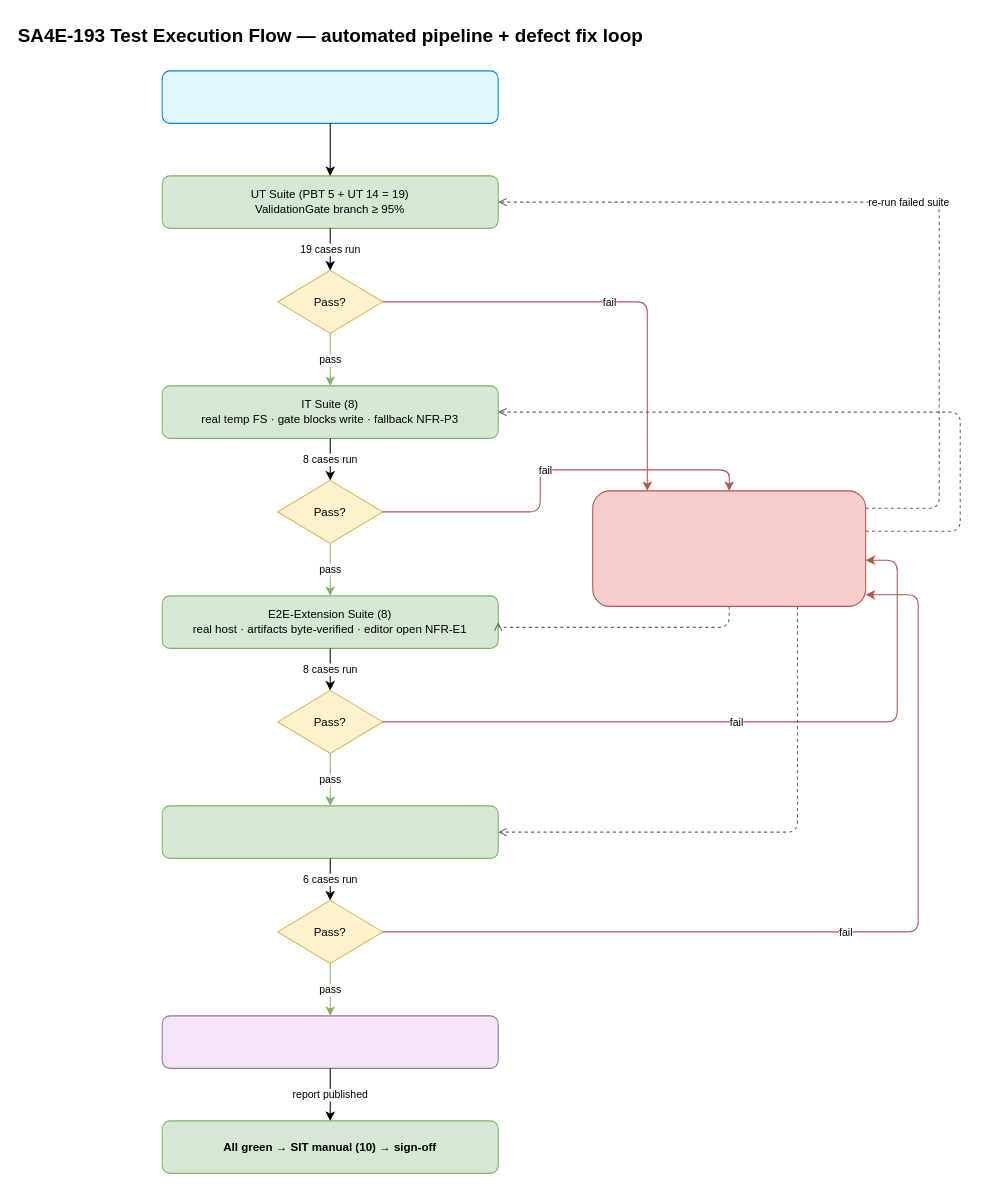
This 987x1192 diagram has some shape labels left out. The box of each missing label's shape, as (x1, y1, x2, y2) in pixels:
Defect Fix Loop fix code + update test D-regression ⇒ Critical: (592, 490, 866, 606)
E2E-UI Suite (6) webview flows · hot-reload ≤ 1 s ×3 runs (NFR-E2): (161, 805, 498, 858)
Report PASS / FAIL TEST-REPORT CSV updated per case: (161, 1015, 498, 1068)
Setup Env temp workspace · vscode mocks · @vscode cache · fixtures: (161, 70, 498, 123)
